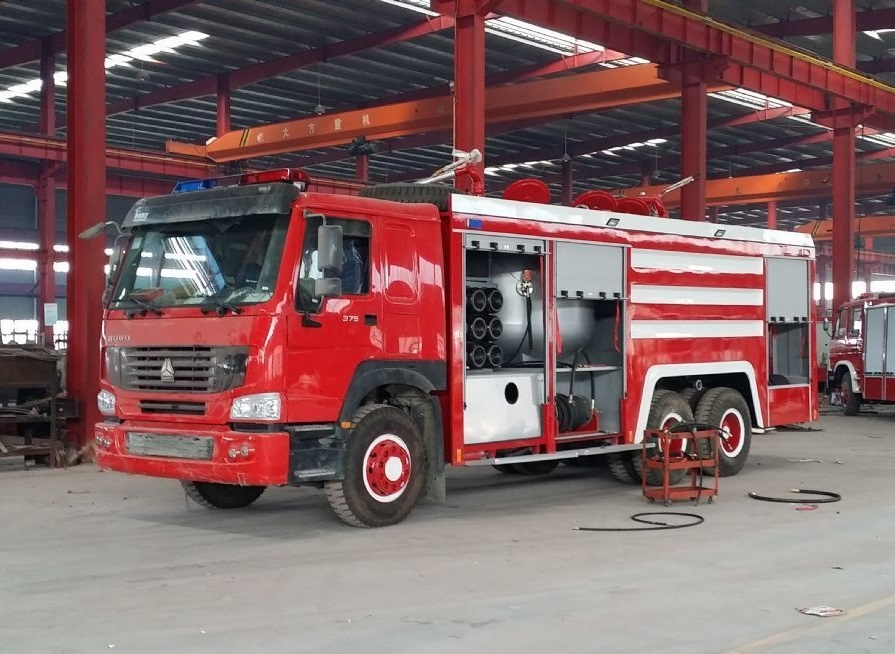fire engine: (85, 175, 827, 525)
